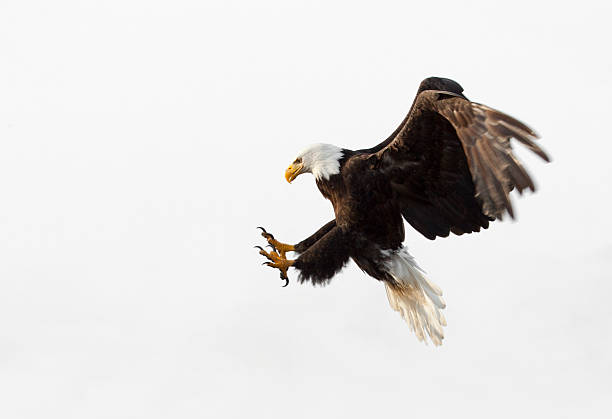Bird: (247, 74, 553, 348)
